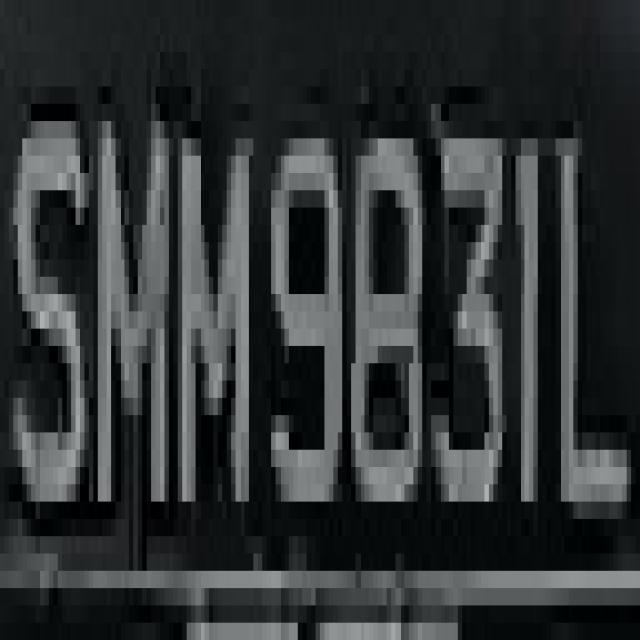1: (484, 69, 534, 554)
3: (418, 69, 502, 536)
8: (346, 69, 426, 554)
9: (267, 104, 342, 553)
L: (546, 86, 640, 588)
M: (89, 69, 173, 571), (169, 69, 253, 536)
S: (9, 69, 84, 554)
